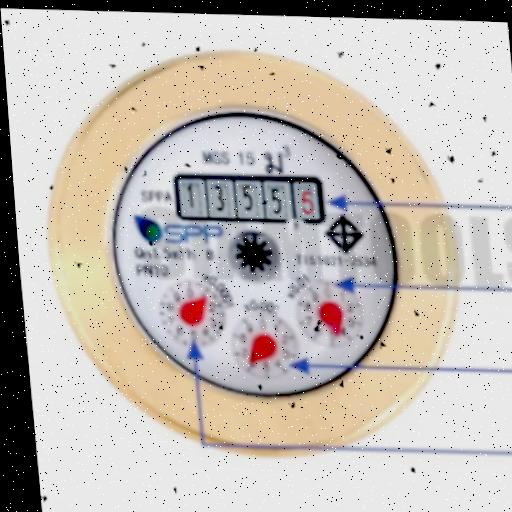1: (182, 184, 202, 217)
3: (211, 184, 229, 218)
5: (239, 185, 259, 217), (269, 186, 287, 219), (299, 187, 317, 218)
border_water_meter_number: (172, 170, 328, 228)
